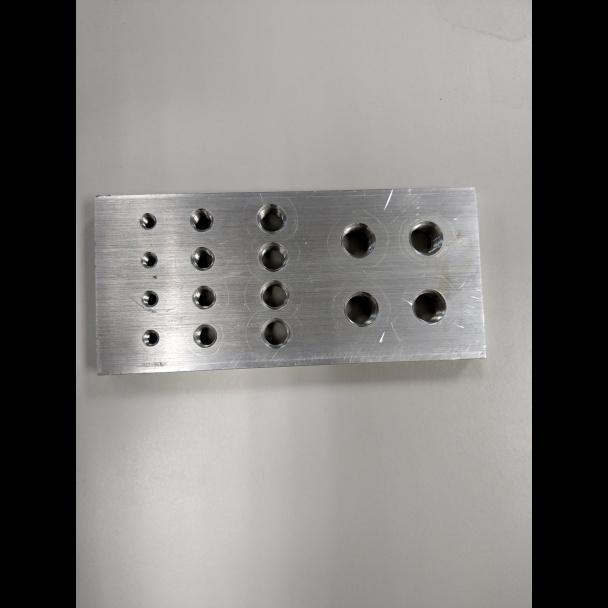hole: (339, 221, 377, 259), (342, 290, 380, 327), (408, 220, 445, 256), (411, 288, 447, 325), (259, 317, 292, 349), (255, 203, 288, 234), (258, 279, 291, 310), (256, 241, 288, 272), (188, 207, 215, 232), (189, 246, 216, 271), (191, 285, 217, 310), (192, 323, 218, 348), (138, 211, 157, 229), (139, 250, 158, 268), (140, 289, 159, 307), (141, 329, 159, 346)
